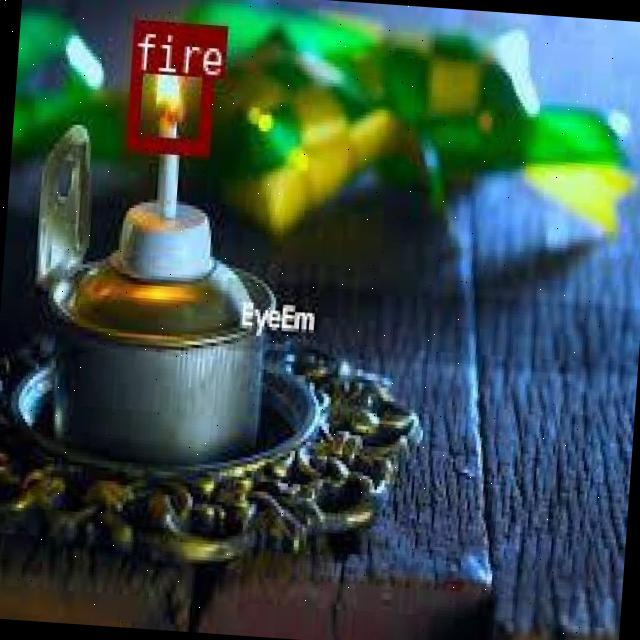fire: (124, 18, 214, 150)
